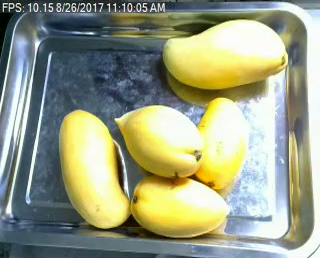Mango: (163, 17, 290, 91), (54, 108, 131, 228), (110, 104, 205, 181), (131, 174, 233, 240), (186, 96, 252, 187)
